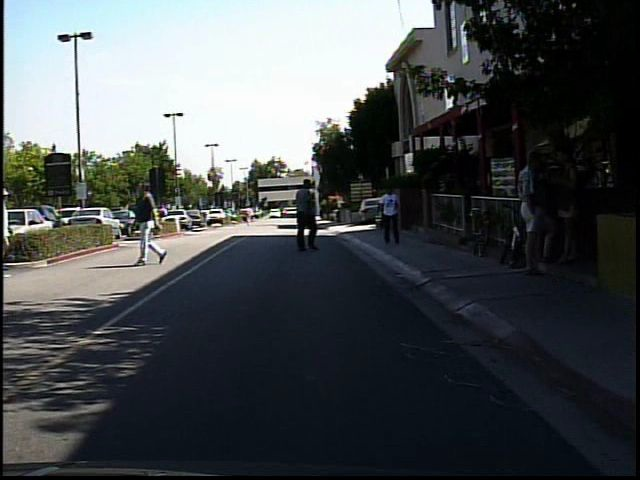person: (515, 141, 558, 279), (547, 143, 585, 272), (132, 179, 168, 271), (289, 174, 330, 253), (374, 179, 406, 247), (2, 182, 23, 274), (157, 199, 174, 232), (242, 204, 258, 228)
